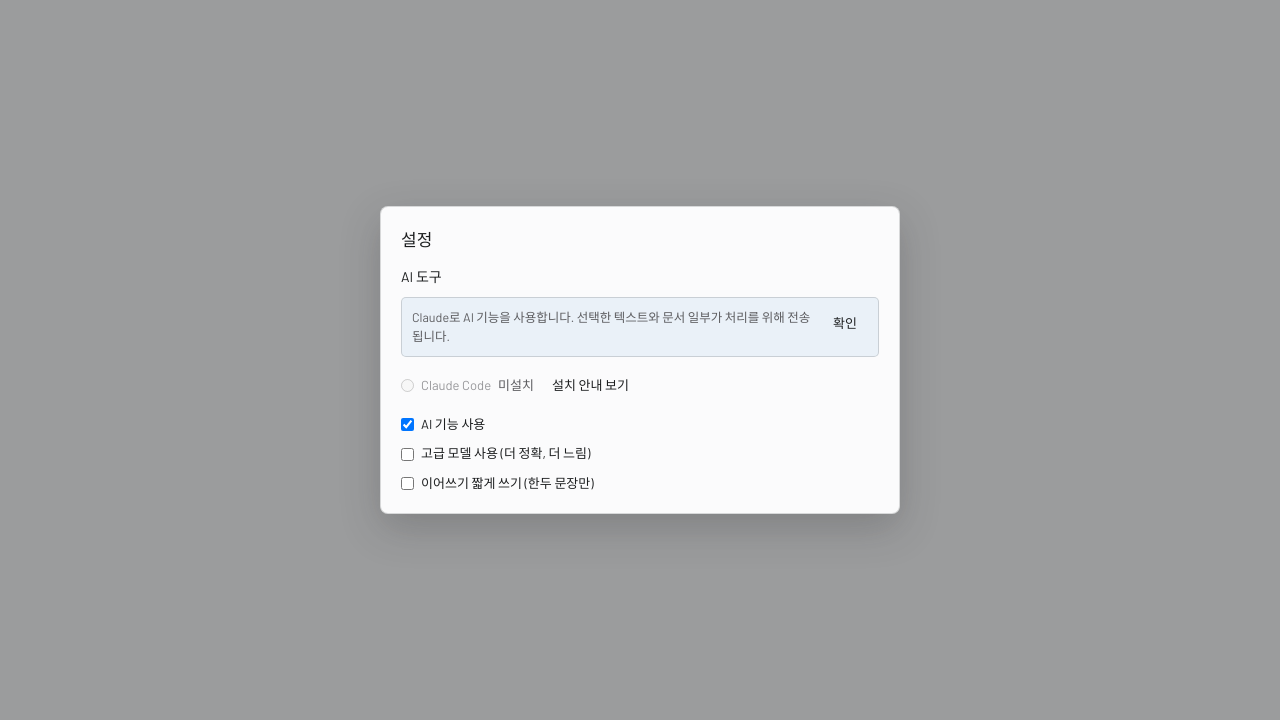
Test case: SettingsModal: onboarding wizard (T-010) › opens the wizard from the not-installed onboarding entry
Click the button "설치 안내 보기".
click(590, 386)  # box [541, 371, 640, 401]
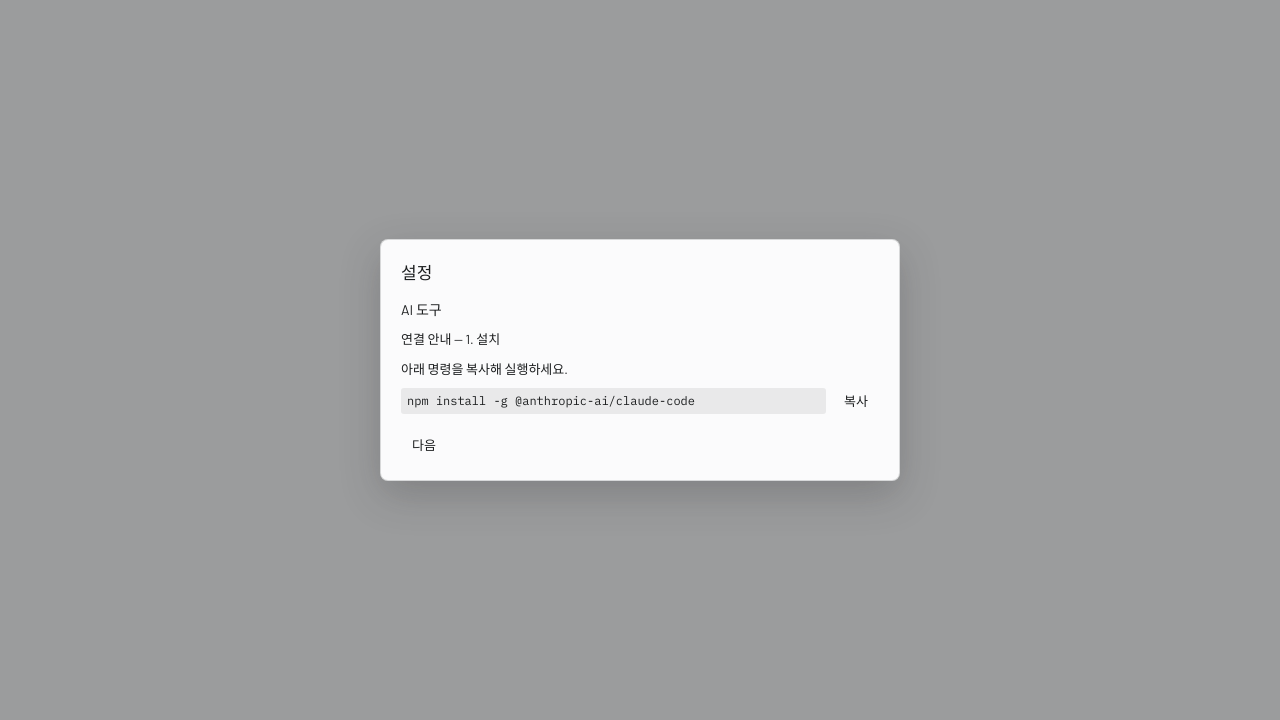
Result: the button with aria-label "설치 명령 복사" is shown at [833, 386, 879, 416]
